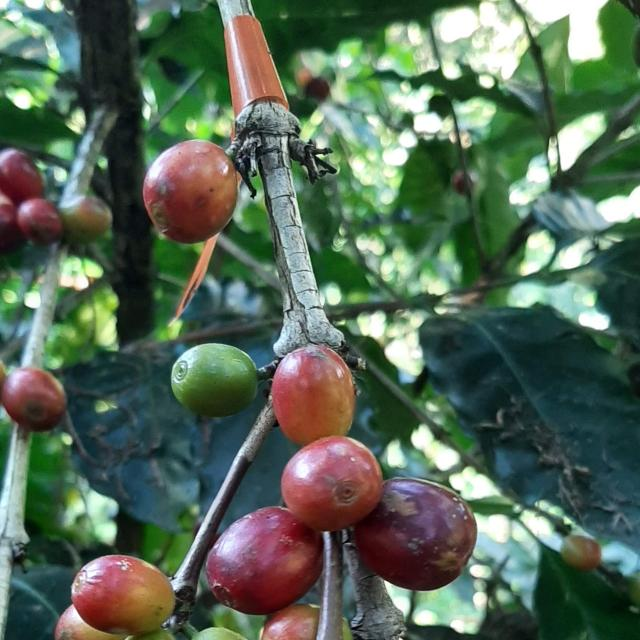green: (170, 343, 258, 418), (59, 195, 112, 243)
red: (354, 479, 478, 592), (206, 507, 323, 616)
yellow: (142, 140, 238, 243), (281, 436, 383, 532), (271, 346, 355, 446), (71, 556, 174, 637), (0, 368, 66, 432), (260, 605, 320, 640)
